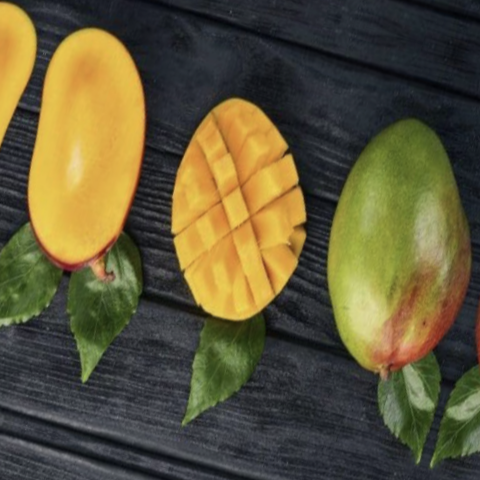mango: (138, 50, 356, 339), (284, 91, 480, 406), (0, 10, 192, 300)
